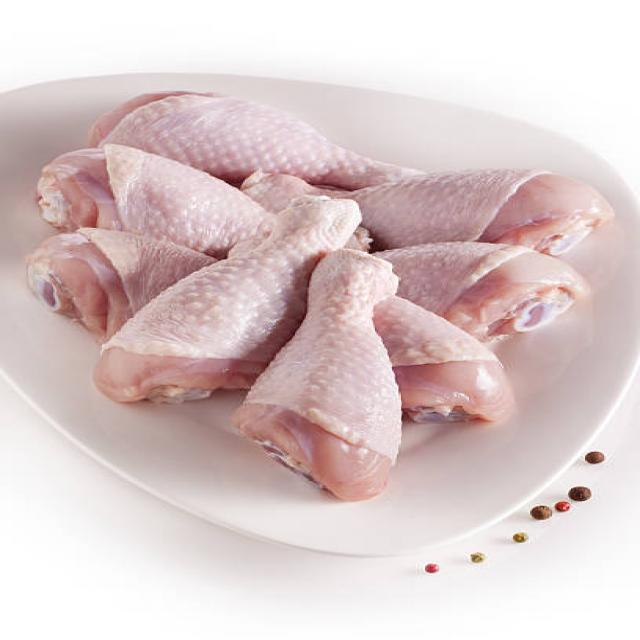chicken wing: (110, 202, 324, 409), (265, 256, 403, 502), (87, 85, 403, 172)
